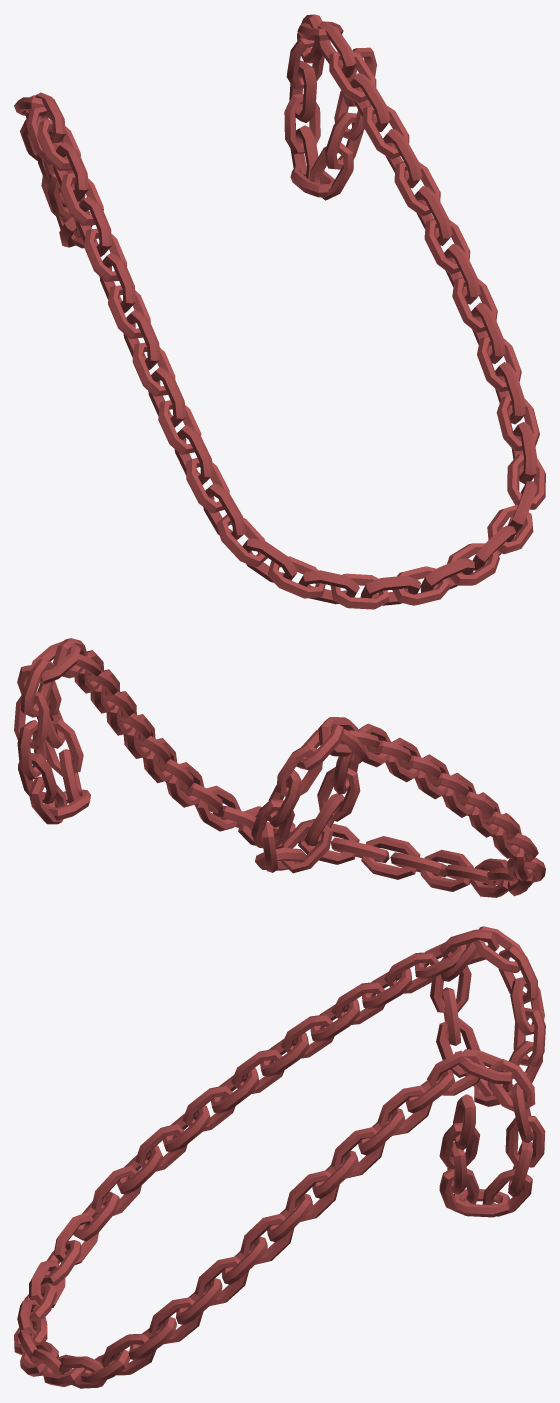
File: seguranca-obj_corrente2.fbx
The picture shows the model from 3 angles, top to bottom: view 1: azimuth 30°, elevation 25°; view 2: azimuth 150°, elevation 25°; view 3: azimuth 270°, elevation 25°; orthographic projection. The views are drawn at different scales.
Visible parts, largest first — view 1: Corrente_Maior; view 2: Corrente_Maior; view 3: Corrente_Maior.
Boxes of the visible parts, x1,y1,x2,y2 form: Corrente_Maior: [14, 14, 545, 609]; Corrente_Maior: [14, 638, 545, 897]; Corrente_Maior: [14, 926, 545, 1388].
Bounding box in the file's own units: 7.11 × 7.1 × 9.42.
